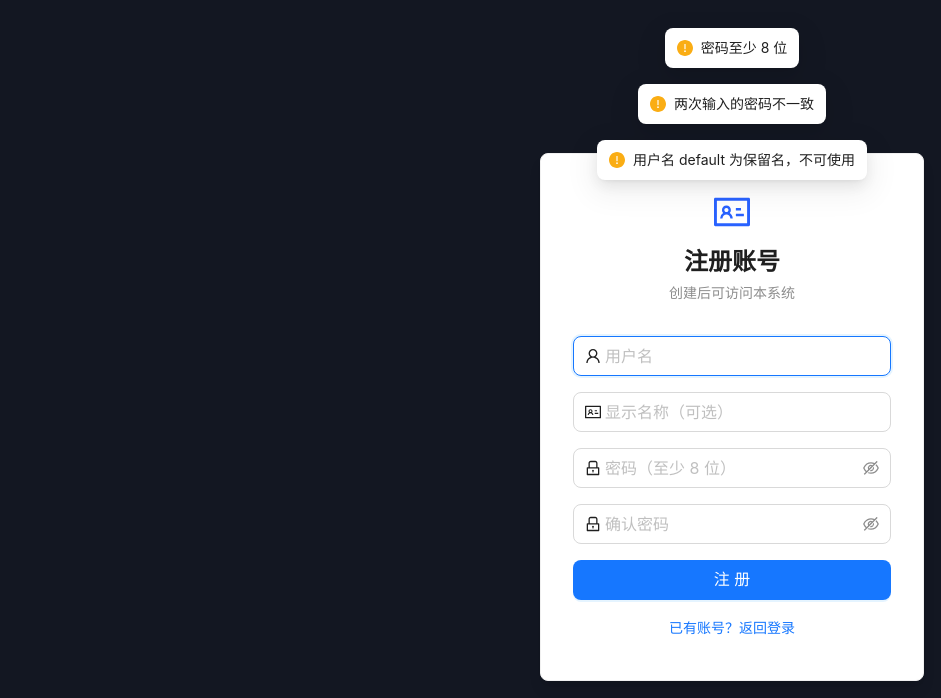
Register 页 › 注册成功：提交 {username, password, display_name} 并跳登录页
The width and height of the screenshot is (941, 698).
Expected: the button with test id "register-submit" is shown, [573,560,891,600]
Type "newbie" into the field with test id "register-username" at (742, 356), box [605,344,879,368]
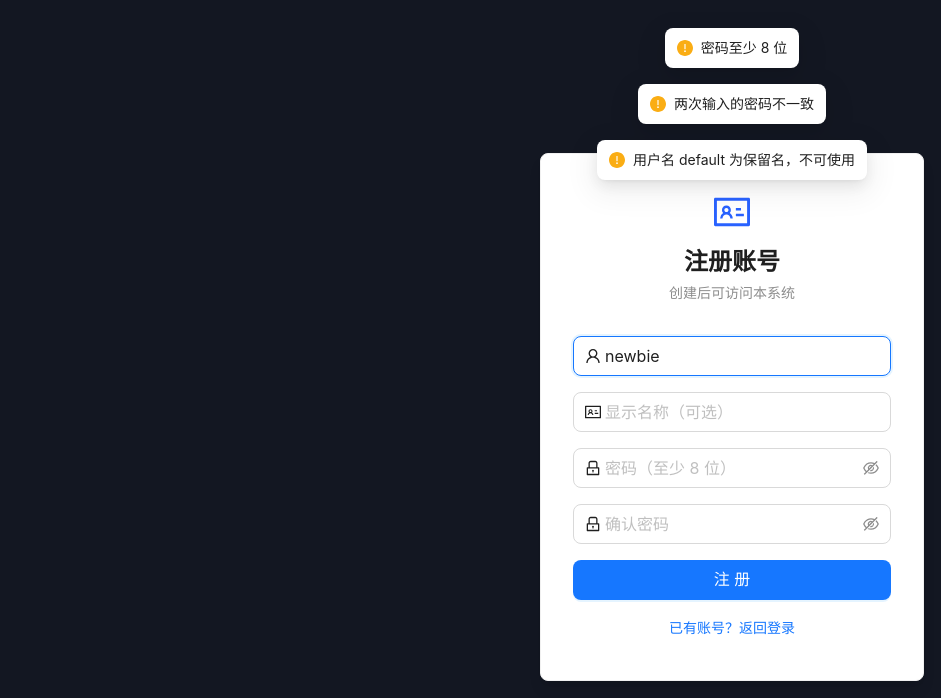
Type "新用户" into the field with test id "register-display-name" at (742, 412), box [605,400,879,424]
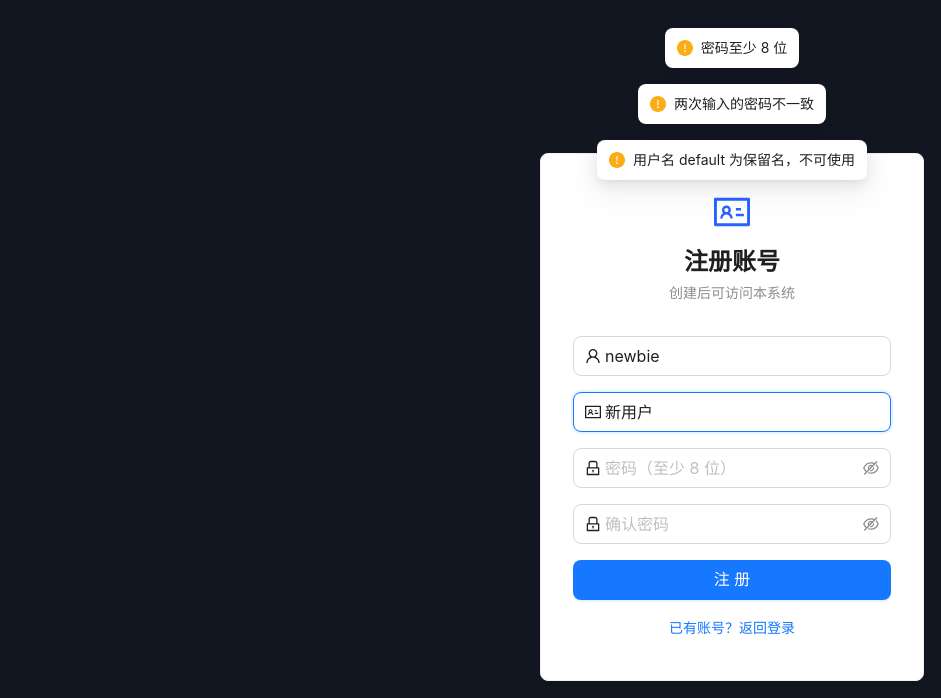
Type "password123" into the password field with test id "register-password" at (732, 468), box [605,456,859,480]
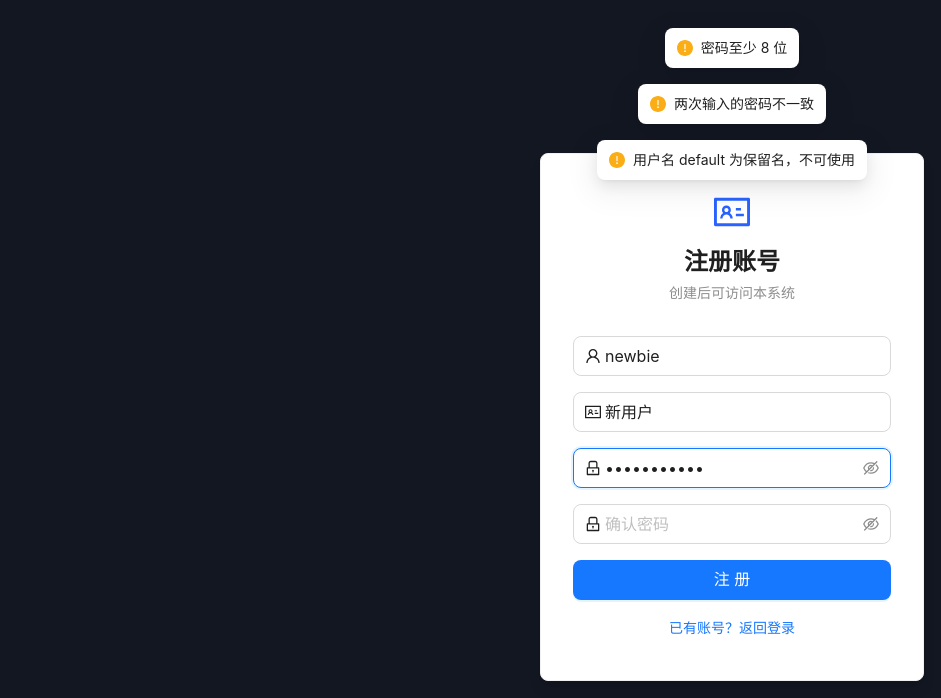
Type "password123" into the password field with test id "register-confirm" at (732, 524), box [605,512,859,536]
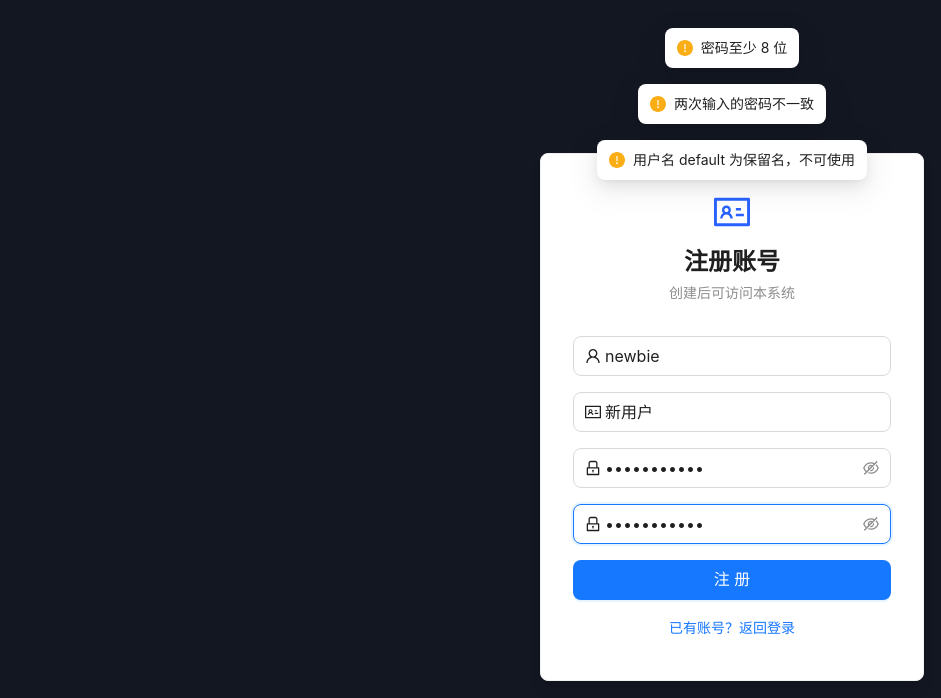
Click the button with test id "register-submit" at (732, 580), box [573,560,891,600]
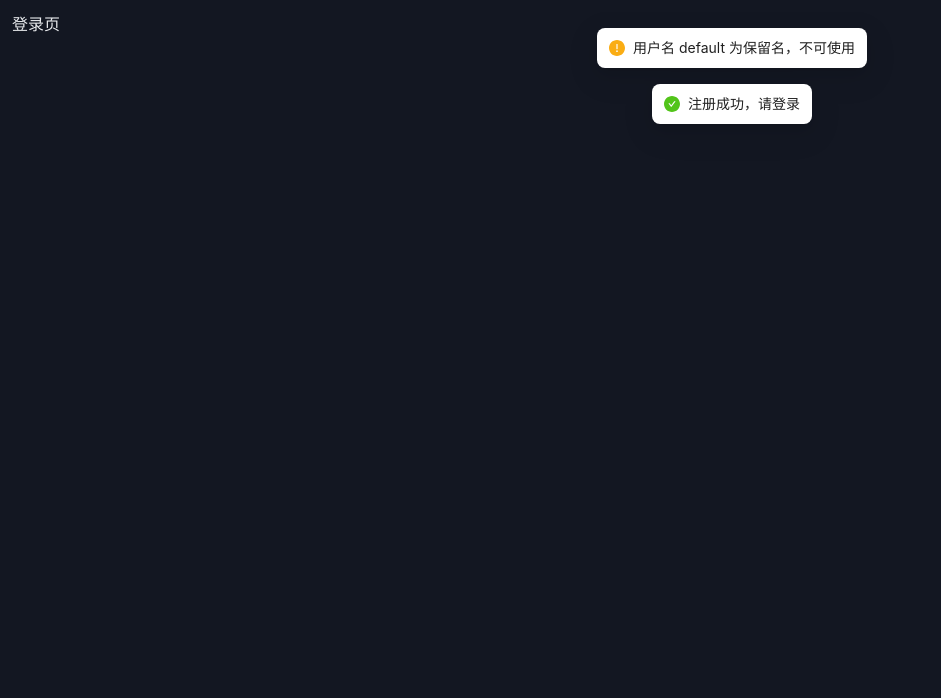
Result: the text "登录页" is shown at [12,14,60,34]
